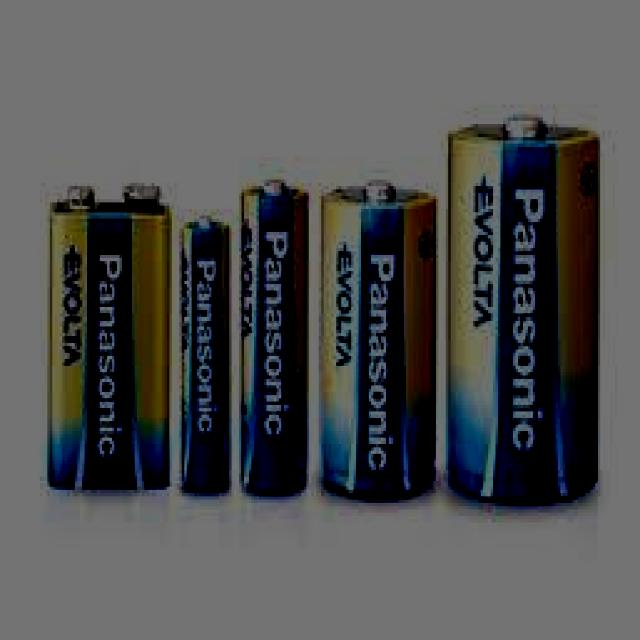9V: (45, 180, 169, 490)
AA: (236, 177, 306, 492)
AAA: (177, 212, 229, 490)
